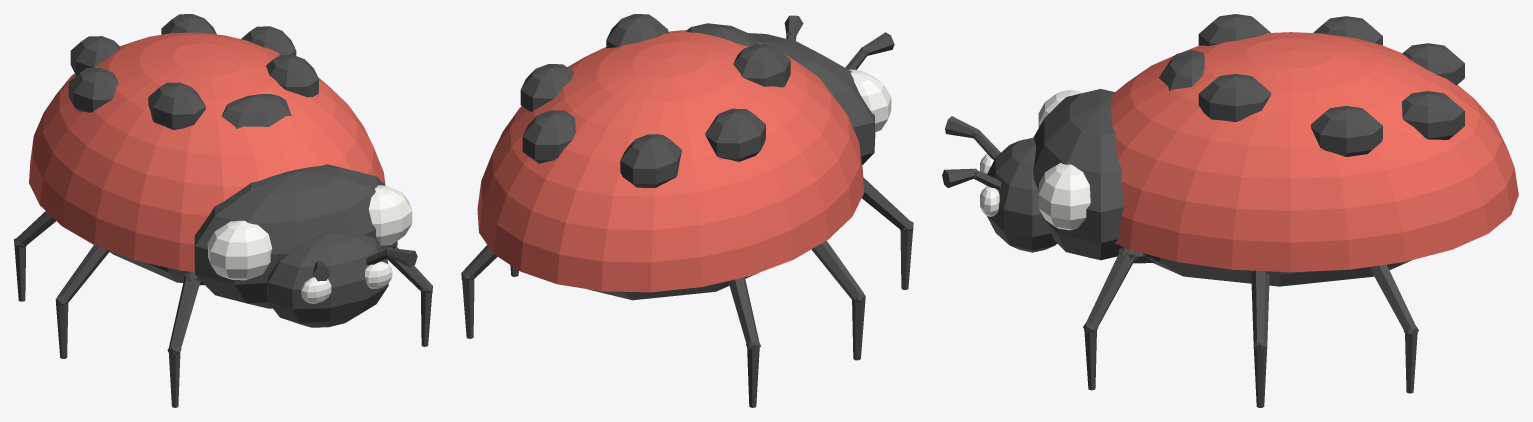
The model's file is coccinelle.glb.
3 renders of one model, left to right at view 1: azimuth 30°, elevation 25°; view 2: azimuth 150°, elevation 25°; view 3: azimuth 270°, elevation 25°, orthographic. The views are drawn at different scales.
Visible parts, largest first — view 1: Elytron_L, Coccinelle_Body, Elytron_R, Leg_L1_1, Leg_L2_1, Leg_L2_2, Leg_L1_2, Leg_R1_2, Leg_L3_2, Leg_L3_1, Leg_R1_1, Antenna_R_1; view 2: Elytron_L, Elytron_R, Coccinelle_Body, Leg_L2_1, Leg_L3_1, Leg_L1_1, Leg_L2_2, Leg_L3_2, Leg_R3_2, Leg_L1_2, Leg_R3_1, Antenna_L_1; view 3: Elytron_R, Coccinelle_Body, Elytron_L, Leg_R1_1, Leg_R2_1, Leg_R3_1, Leg_R2_2, Leg_R1_2, Leg_R3_2.
Part boxes in pixels (left/top/right/bottom): Elytron_L: left=29, top=36, right=291, bottom=271; Coccinelle_Body: left=110, top=94, right=412, bottom=327; Elytron_R: left=151, top=14, right=385, bottom=184; Leg_L1_1: left=169, top=271, right=201, bottom=350; Leg_L2_1: left=57, top=245, right=109, bottom=302; Leg_L2_2: left=55, top=296, right=68, bottom=358; Leg_L1_2: left=167, top=345, right=181, bottom=407; Leg_R1_2: left=421, top=283, right=432, bottom=346; Leg_L3_2: left=14, top=237, right=26, bottom=301; Leg_L3_1: left=16, top=211, right=55, bottom=246; Leg_R1_1: left=387, top=246, right=430, bottom=291; Antenna_R_1: left=385, top=247, right=417, bottom=267; Elytron_L: left=557, top=36, right=864, bottom=292; Elytron_R: left=477, top=14, right=712, bottom=283; Coccinelle_Body: left=587, top=23, right=891, bottom=300; Leg_L2_1: left=811, top=240, right=863, bottom=299; Leg_L3_1: left=728, top=277, right=759, bottom=345; Leg_L1_1: left=862, top=177, right=911, bottom=230; Leg_L2_2: left=852, top=292, right=865, bottom=360; Leg_L3_2: left=746, top=339, right=760, bottom=407; Leg_R3_2: left=461, top=270, right=474, bottom=338; Leg_L1_2: left=900, top=220, right=913, bottom=289; Leg_R3_1: left=463, top=245, right=497, bottom=278; Antenna_L_1: left=860, top=32, right=894, bottom=55; Elytron_R: left=1110, top=50, right=1518, bottom=272; Coccinelle_Body: left=980, top=50, right=1412, bottom=286; Elytron_L: left=1110, top=14, right=1513, bottom=165; Leg_R1_1: left=1085, top=247, right=1137, bottom=328; Leg_R2_1: left=1251, top=270, right=1269, bottom=344; Leg_R3_1: left=1370, top=264, right=1416, bottom=332; Leg_R2_2: left=1253, top=340, right=1267, bottom=407; Leg_R1_2: left=1083, top=323, right=1098, bottom=390; Leg_R3_2: left=1403, top=326, right=1418, bottom=393.
Size of the model in its own units: 0.6022 by 0.4435 by 0.84.
